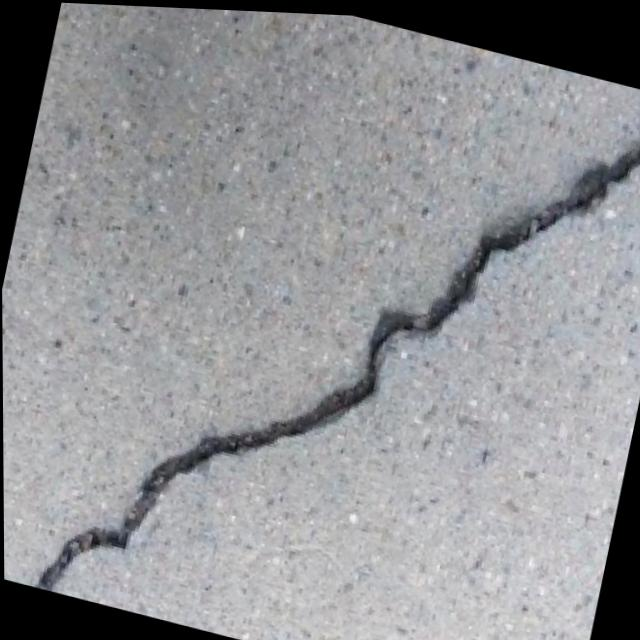Crack: (28, 1, 640, 640)
